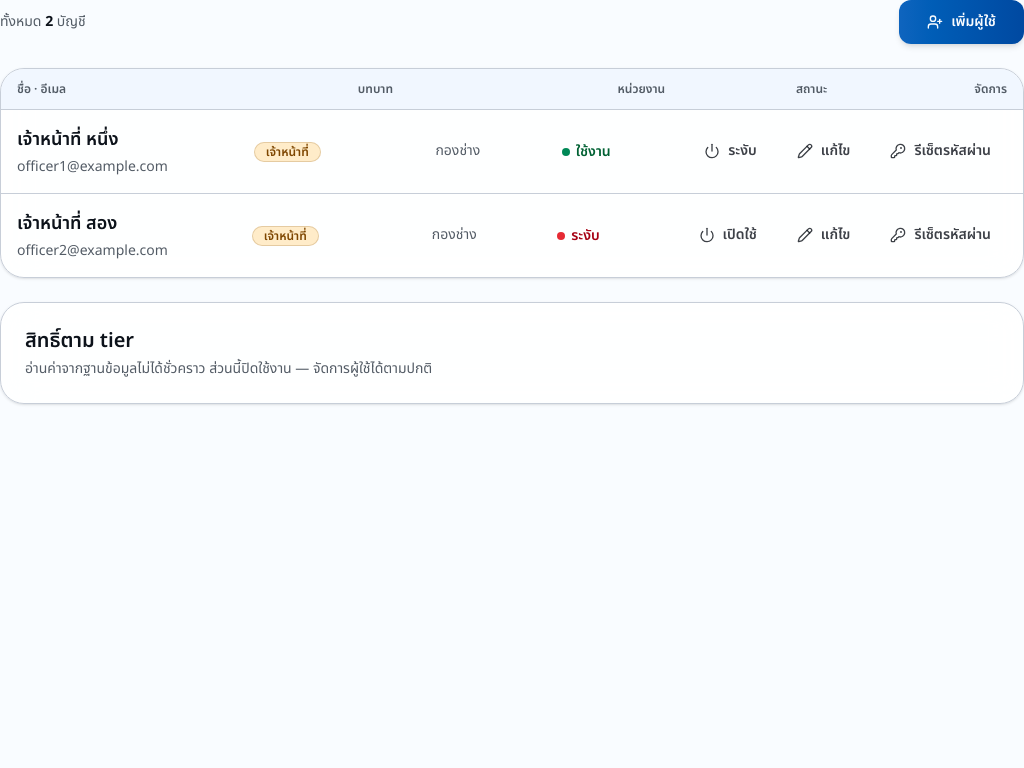
Scenario: UsersClient ระงับบัญชี › action throw error (network/server fail) → แสดงข้อความ error ใน FormError และปิด dialog
Click the button with aria-label "ระงับบัญชี".
click(731, 151)  # box [688,129,773,173]
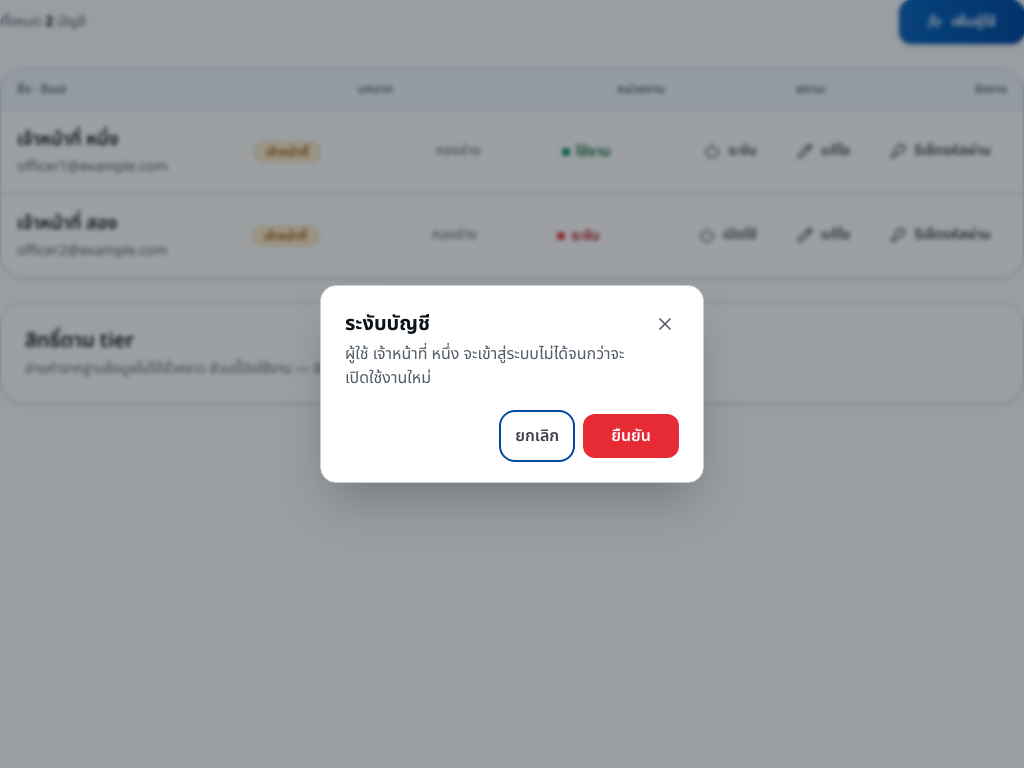
Click the button "ยืนยัน".
click(631, 436)  # box [583,414,679,458]
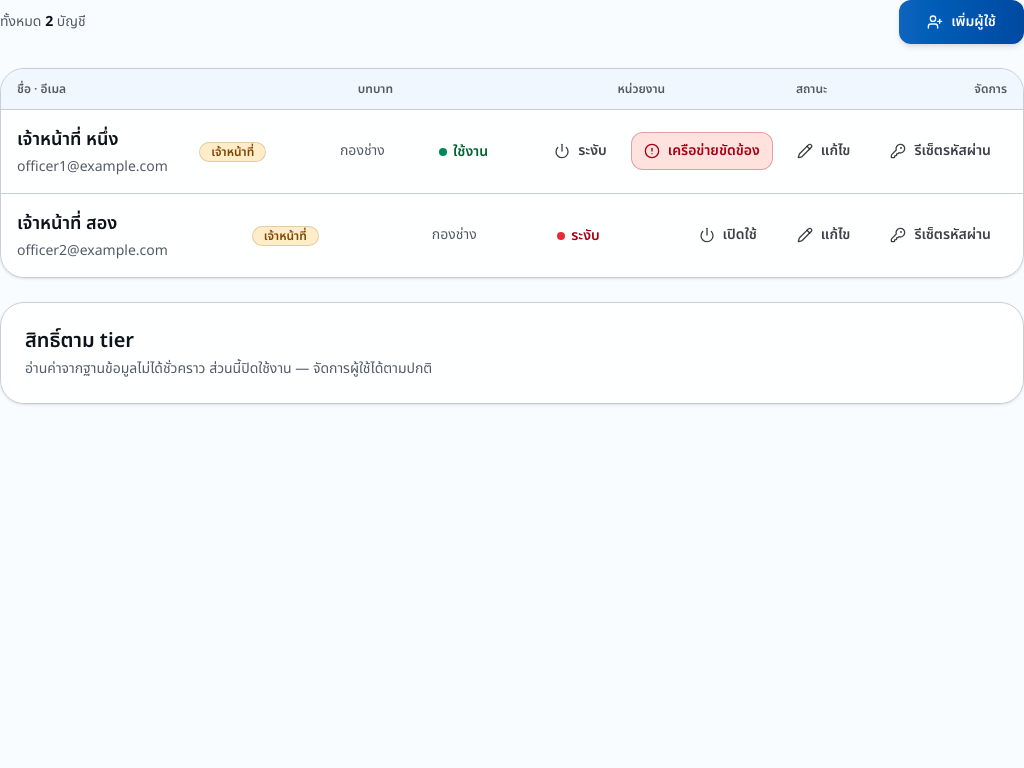
Expected: the button with aria-label "ระงับบัญชี" is enabled, [538,129,623,173]
Now the message reads "เครือข่ายขัดข้อง", box [668,140,760,161]
